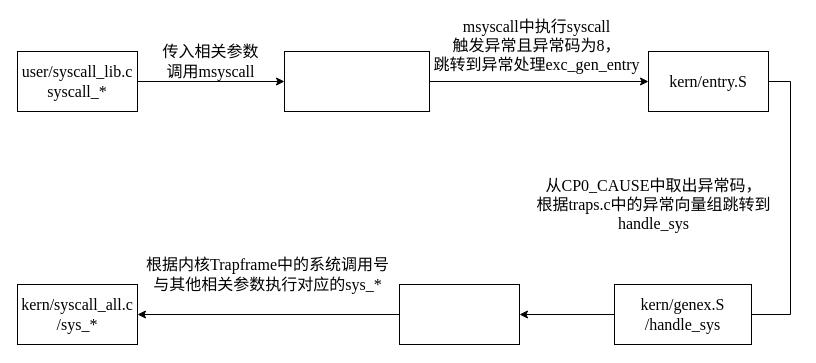
The diagram is 816 pixels wide and 363 high, and some of its shapes have lost their labels. The shapes that lost their labels are listed below. From the top down, each one's box as (x1, y1, x2, y2) in pixels, then its label:
(284, 50, 430, 112): user/syscall_warp.S msyscall
(398, 284, 520, 344): kern/syscall_all.c /do_syscall
